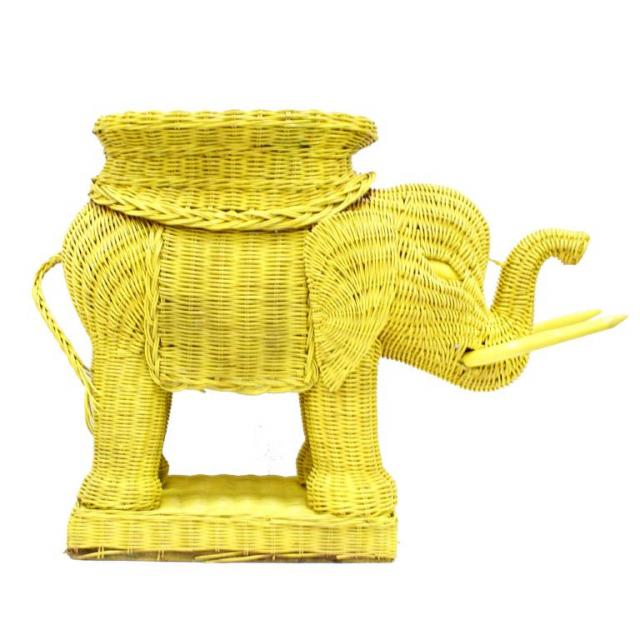elephant: (25, 133, 627, 572)
